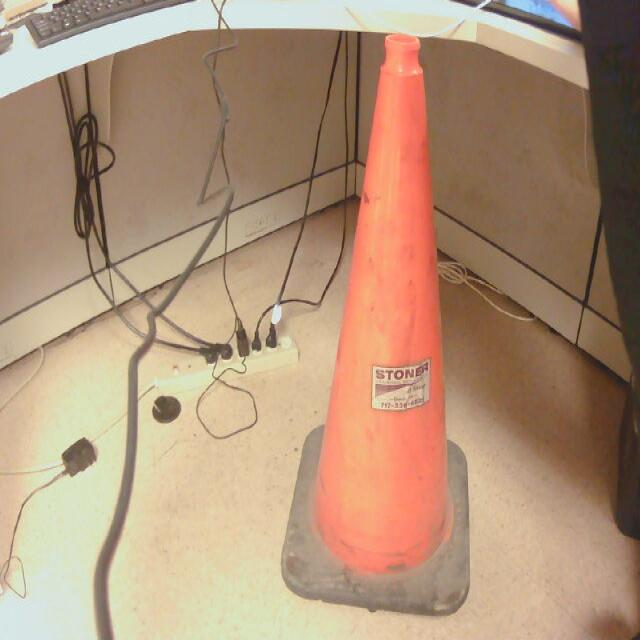traffic cone: (281, 36, 472, 620)
